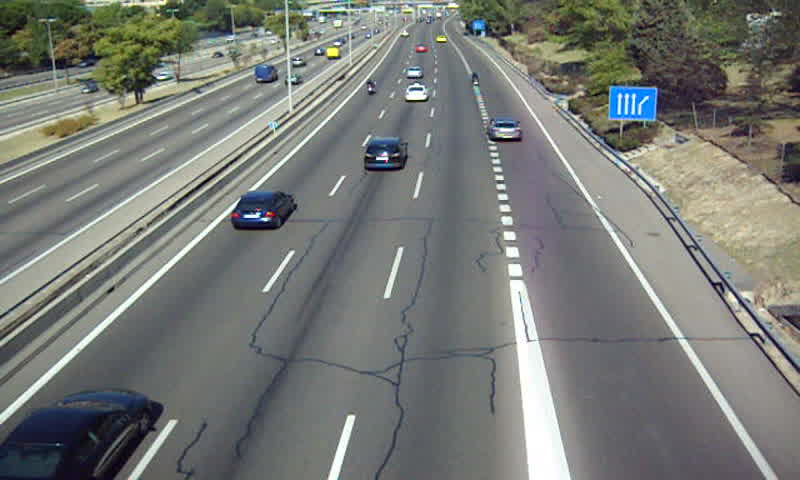car: (1, 388, 150, 480), (230, 191, 294, 230), (364, 137, 406, 169), (486, 116, 524, 142), (403, 82, 427, 102), (405, 64, 422, 78)
motorcycle: (366, 76, 376, 98), (470, 71, 481, 88)
